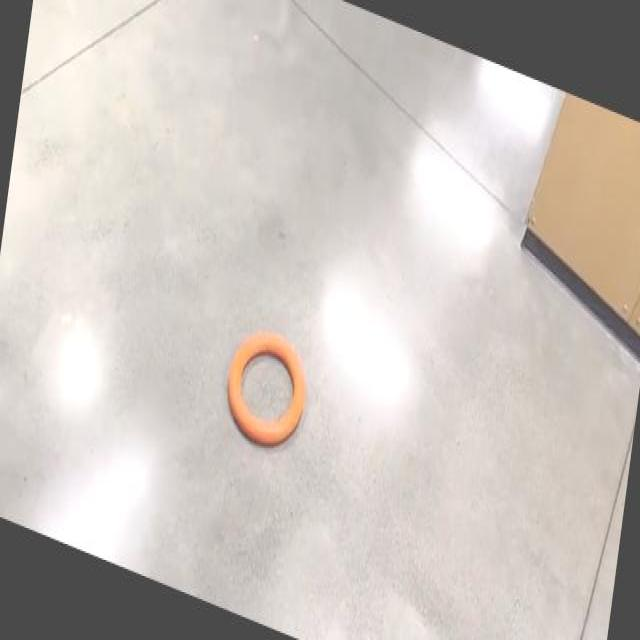note: (222, 319, 312, 458)
